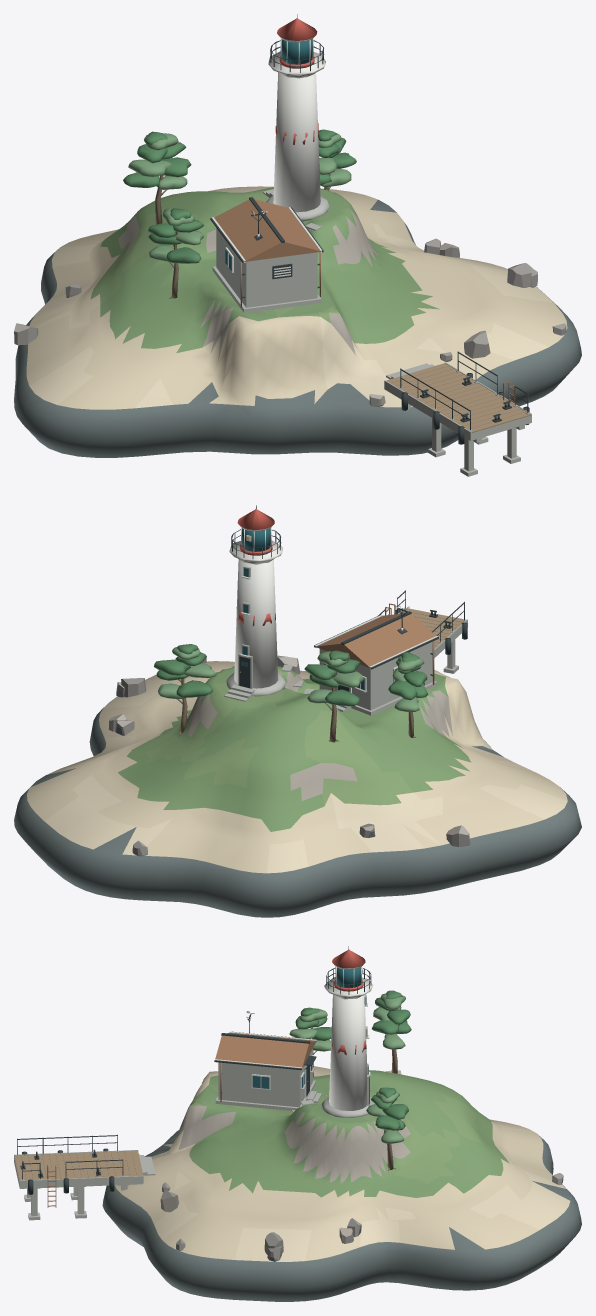
Rendered from ENV_LighthouseIsland_LOD1.fbx.
The picture shows the model from 3 angles, top to bottom: view 1: azimuth 30°, elevation 25°; view 2: azimuth 150°, elevation 25°; view 3: azimuth 270°, elevation 25°; orthographic projection. The views are drawn at different scales.
Parts seen in each view (by area): view 1: TerrainShell, CoastShed_Visual, Lighthouse_Visual, Jetty_Visual, CoastalPine_0_Visual.001, Decor_Visual, CoastalPine_2_Visual.001, CoastalPine_1_Visual.001; view 2: TerrainShell, Lighthouse_Visual, CoastShed_Visual, CoastalPine_0_Visual.001, CoastalPine_1_Visual.001, Decor_Visual, Jetty_Visual, CoastalPine_2_Visual.001; view 3: TerrainShell, CoastShed_Visual, Lighthouse_Visual, Jetty_Visual, CoastalPine_0_Visual.001, CoastalPine_1_Visual.001, Decor_Visual, CoastalPine_2_Visual.001.
Part boxes in pixels (left/top/right/bottom): TerrainShell: left=14, top=186, right=581, bottom=457; CoastShed_Visual: left=210, top=197, right=323, bottom=313; Lighthouse_Visual: left=262, top=14, right=329, bottom=221; Jetty_Visual: left=384, top=351, right=531, bottom=476; CoastalPine_0_Visual.001: left=123, top=131, right=191, bottom=224; Decor_Visual: left=14, top=223, right=566, bottom=406; CoastalPine_2_Visual.001: left=148, top=208, right=203, bottom=298; CoastalPine_1_Visual.001: left=318, top=129, right=356, bottom=190; TerrainShell: left=14, top=661, right=581, bottom=917; Lighthouse_Visual: left=224, top=505, right=286, bottom=701; CoastShed_Visual: left=314, top=607, right=438, bottom=715; CoastalPine_0_Visual.001: left=304, top=650, right=363, bottom=742; CoastalPine_1_Visual.001: left=154, top=644, right=216, bottom=734; Decor_Visual: left=108, top=655, right=470, bottom=856; Jetty_Visual: left=378, top=590, right=467, bottom=673; CoastalPine_2_Visual.001: left=388, top=652, right=427, bottom=737; TerrainShell: left=102, top=1066, right=581, bottom=1301; CoastShed_Visual: left=214, top=1014, right=326, bottom=1110; Lighthouse_Visual: left=321, top=946, right=374, bottom=1117; Jetty_Visual: left=14, top=1134, right=155, bottom=1220; CoastalPine_0_Visual.001: left=372, top=990, right=411, bottom=1073; CoastalPine_1_Visual.001: left=366, top=1087, right=408, bottom=1170; Decor_Visual: left=138, top=1070, right=563, bottom=1261; CoastalPine_2_Visual.001: left=289, top=1007, right=331, bottom=1076.
Size of the model in its own units: 2363 by 1482 by 2734.
